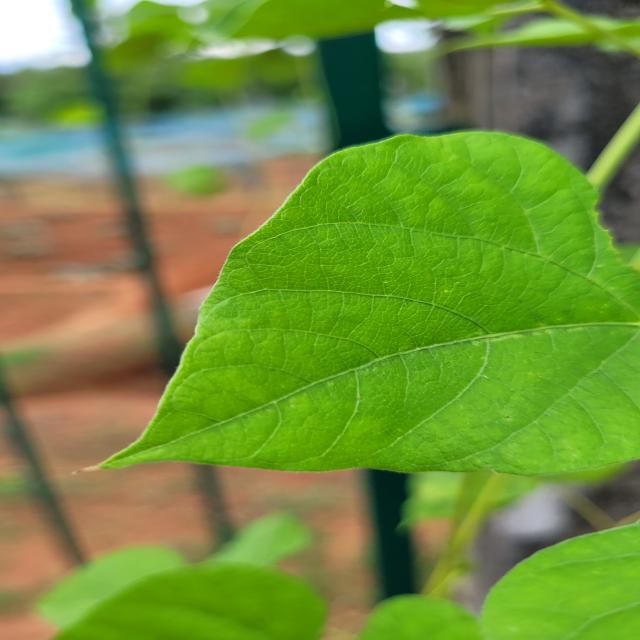Dolicos bean_healthy: (65, 127, 640, 480)
